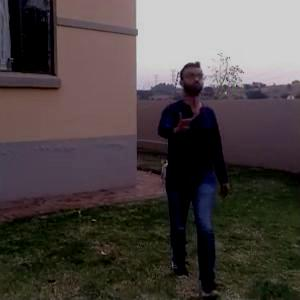takeoff-hand: (168, 109, 198, 141)
